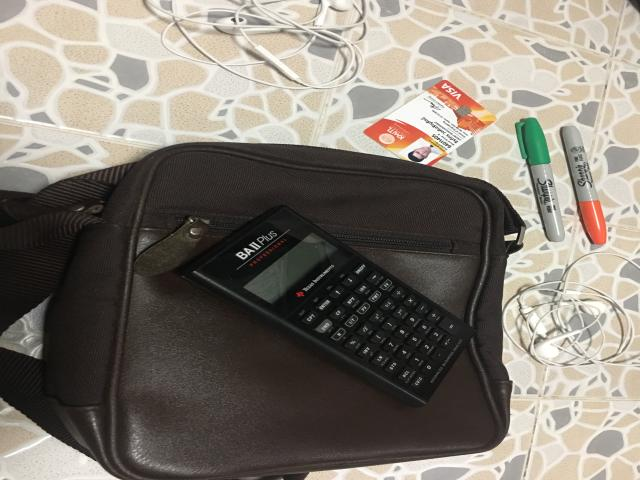Pen: (515, 117, 565, 242), (562, 126, 607, 245)
wire: (145, 0, 368, 89), (503, 252, 638, 367)
